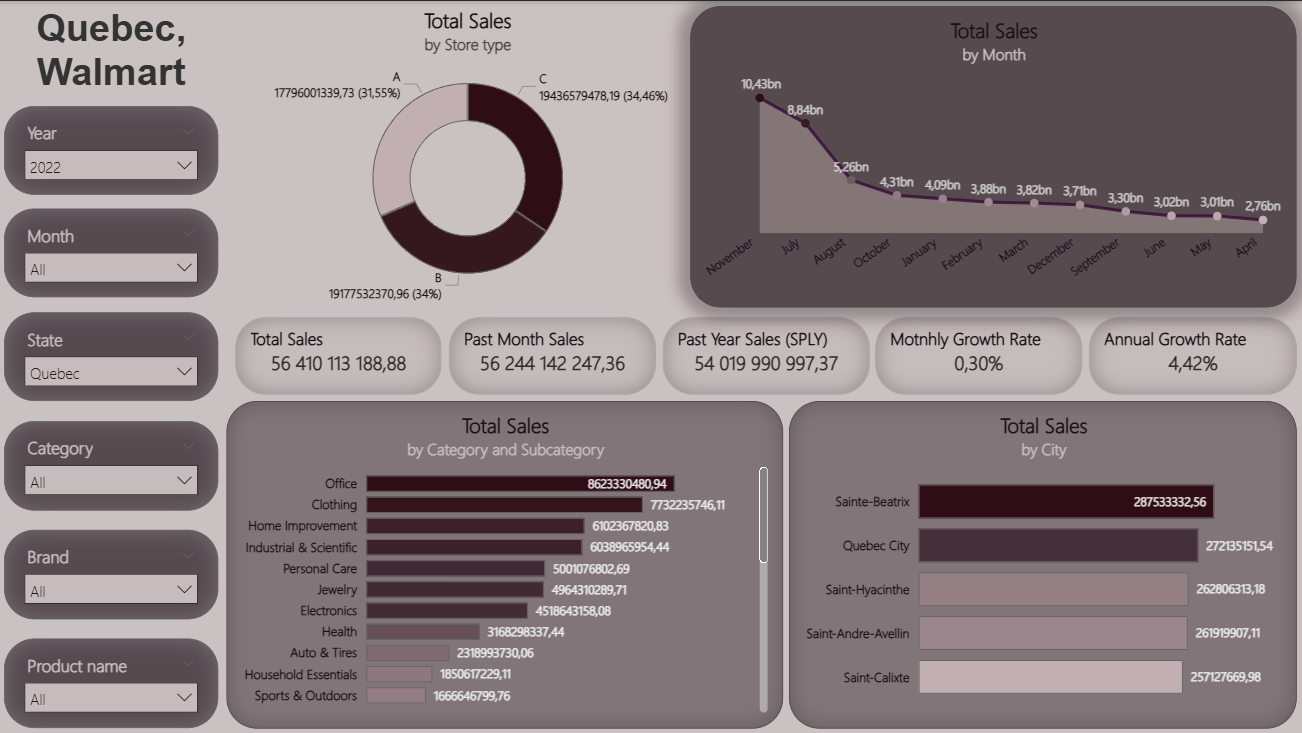

This screenshot's page, from the dashboard's own definition file:
{"tool":"powerbi","page":{"name":"Quebec Sales Analysis","canvas":[1280,720],"ordinal":1},"visuals":[{"type":"slicer","fields":{"Values":["Date.Year"]},"box":[5,102.5,210,87.5],"z":0},{"type":"slicer","fields":{"Values":["Date.Month"]},"box":[5,203.8,210,87.5],"z":1000},{"type":"slicer","fields":{"Values":["Walmart_City.Province"]},"box":[5,305,210,87.5],"z":2000},{"type":"slicer","fields":{"Values":["Walmart_SKU.Category"]},"box":[5,411.8,210,88],"z":3000},{"type":"slicer","fields":{"Values":["Walmart_SKU.Brand"]},"box":[5,519,210,88],"z":4000},{"type":"slicer","fields":{"Values":["Walmart_SKU.Product_name"]},"box":[5,626.2,210,88],"z":5000},{"type":"card","title":"Past Year Sales (SPLY)","fields":{"Values":["_Measures.SPLY"]},"box":[651,310,203,76.2],"z":6000},{"type":"card","title":"Total Sales","fields":{"Values":["_Measures.Total Sales"]},"box":[232.5,310,202.5,76.2],"z":7000},{"type":"card","title":"Motnhly Growth Rate","fields":{"Values":["_Measures.MoM%"]},"box":[860.5,310,203,76.2],"z":8000},{"type":"card","title":"Past Month Sales","fields":{"Values":["_Measures.Sales PM"]},"box":[441.5,310,203,76.2],"z":9000},{"type":"card","title":"Annual Growth Rate","fields":{"Values":["_Measures.YoY%"]},"box":[1070,310,203.8,76.2],"z":10000},{"type":"areaChart","fields":{"Category":["Date.Month"],"Y":["_Measures.Total Sales"]},"box":[678.8,5,595,296.2],"z":11000},{"type":"donutChart","title":"Total Sales","fields":{"Category":["Walmart_Sales.Store_type"],"Y":["_Measures.Total Sales"]},"box":[223.9,5,473.9,296.1],"z":12000},{"type":"barChart","fields":{"Category":["Walmart_City.City"],"Y":["_Measures.Total Sales"]},"box":[775,392.5,498.8,321.2],"z":13000},{"type":"clusteredBarChart","title":"Total Sales","fields":{"Category":["Walmart_SKU.Category","Walmart_SKU.Subcategory"],"Y":["_Measures.Total Sales"]},"box":[223.8,392.5,546.2,321.2],"z":14000},{"type":"textbox","box":[25,0,171.2,102.5],"z":15000}]}

Visuals, with their boxes in screenshot pixels (x1, y1, x2, y2), scaled from the page's 1280x720 canvas onto the 1302x733 screenshot:
slicer - Date.Year: <region>5, 104, 219, 193</region>
slicer - Date.Month: <region>5, 207, 219, 297</region>
slicer - Walmart_City.Province: <region>5, 311, 219, 400</region>
slicer - Walmart_SKU.Category: <region>5, 419, 219, 509</region>
slicer - Walmart_SKU.Brand: <region>5, 528, 219, 618</region>
slicer - Walmart_SKU.Product_name: <region>5, 638, 219, 727</region>
"Past Year Sales (SPLY)" card: <region>662, 316, 869, 393</region>
"Total Sales" card: <region>236, 316, 442, 393</region>
"Motnhly Growth Rate" card: <region>875, 316, 1082, 393</region>
"Past Month Sales" card: <region>449, 316, 656, 393</region>
"Annual Growth Rate" card: <region>1088, 316, 1296, 393</region>
areaChart - Date.Month x _Measures.Total Sales: <region>690, 5, 1296, 307</region>
"Total Sales" donutChart: <region>228, 5, 710, 307</region>
barChart - Walmart_City.City x _Measures.Total Sales: <region>788, 400, 1296, 727</region>
"Total Sales" clusteredBarChart: <region>228, 400, 783, 727</region>
textbox: <region>25, 0, 200, 104</region>
